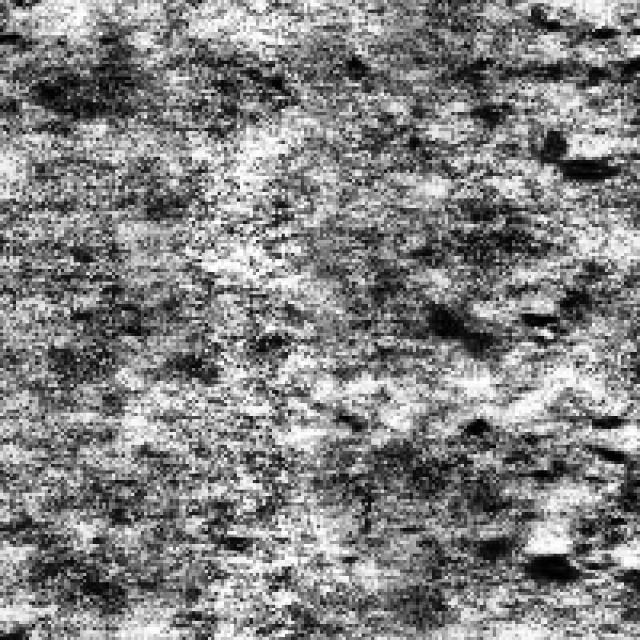Crazing: (470, 275, 628, 595)
